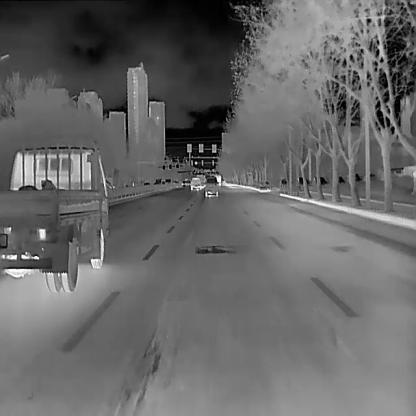car: (0, 139, 120, 292), (203, 176, 218, 198), (296, 176, 310, 190), (189, 177, 200, 192), (311, 176, 327, 185), (280, 177, 287, 189)
